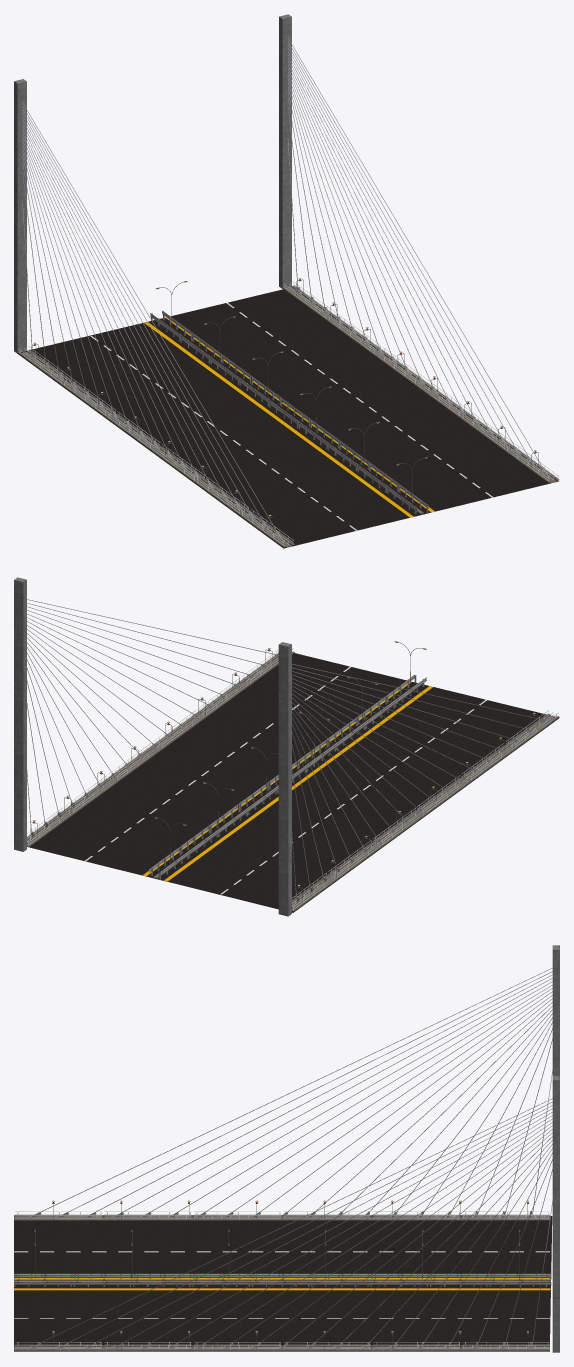
Rendered from bridge.glb.
3 renders of one model, top to bottom at view 1: azimuth 30°, elevation 25°; view 2: azimuth 150°, elevation 25°; view 3: azimuth 270°, elevation 25°, orthographic.
Parts seen in each view (by area): view 1: main_road, cables_left, cables_left.001, bridge_supports_Baked.001, bridge_supports_Baked, side_concrete_Baked.001, side_concrete_Baked, side_railings2, side_railings1, guardrile_right, guardrile_left, yellow_sign_left (+2 smaller); view 2: main_road, bridge_supports_Baked, cables_left, cables_left.001, bridge_supports_Baked.001, side_concrete_Baked.001, side_concrete_Baked, side_railings1, side_railings2, guardrile_right, guardrile_left, yellow_sign_left (+4 smaller); view 3: main_road, cables_left.001, cables_left, side_railings2, side_railings1, side_concrete_Baked.001, guardrile_left, side_concrete_Baked, guardrile_right, bridge_supports_Baked.001, yellow_sign_right, center_concrete (+5 smaller).
Part boxes in pixels (bbox=[...]): main_road: bbox=[17, 289, 558, 548]; cables_left: bbox=[22, 102, 279, 536]; cables_left.001: bbox=[287, 38, 545, 472]; bridge_supports_Baked.001: bbox=[279, 14, 291, 288]; bridge_supports_Baked: bbox=[14, 79, 26, 352]; side_concrete_Baked.001: bbox=[18, 350, 294, 547]; side_concrete_Baked: bbox=[283, 285, 559, 483]; side_railings2: bbox=[284, 281, 558, 481]; side_railings1: bbox=[19, 346, 293, 545]; guardrile_right: bbox=[162, 310, 428, 513]; guardrile_left: bbox=[150, 313, 417, 513]; yellow_sign_left: bbox=[144, 322, 413, 517]; main_road: bbox=[27, 653, 559, 912]; bridge_supports_Baked: bbox=[278, 642, 291, 916]; cables_left: bbox=[292, 664, 544, 901]; cables_left.001: bbox=[27, 599, 277, 837]; bridge_supports_Baked.001: bbox=[14, 577, 26, 851]; side_concrete_Baked.001: bbox=[292, 714, 559, 911]; side_concrete_Baked: bbox=[27, 651, 294, 846]; side_railings1: bbox=[292, 710, 558, 910]; side_railings2: bbox=[27, 648, 293, 846]; guardrile_right: bbox=[149, 675, 416, 875]; guardrile_left: bbox=[159, 677, 426, 879]; yellow_sign_left: bbox=[164, 686, 432, 881]; main_road: bbox=[14, 1216, 552, 1351]; cables_left.001: bbox=[34, 1098, 552, 1347]; cables_left: bbox=[34, 968, 552, 1216]; side_railings2: bbox=[15, 1342, 549, 1350]; side_railings1: bbox=[15, 1211, 549, 1219]; side_concrete_Baked.001: bbox=[14, 1215, 549, 1220]; guardrile_left: bbox=[14, 1273, 550, 1278]; side_concrete_Baked: bbox=[14, 1345, 549, 1350]; guardrile_right: bbox=[14, 1278, 550, 1286]; bridge_supports_Baked.001: bbox=[552, 1075, 559, 1352]; yellow_sign_right: bbox=[14, 1288, 550, 1290]; center_concrete: bbox=[14, 1282, 551, 1285].
Size of the model in its own units: 8.25 by 7.7 by 13.99.
12 materials, 5 textured.
